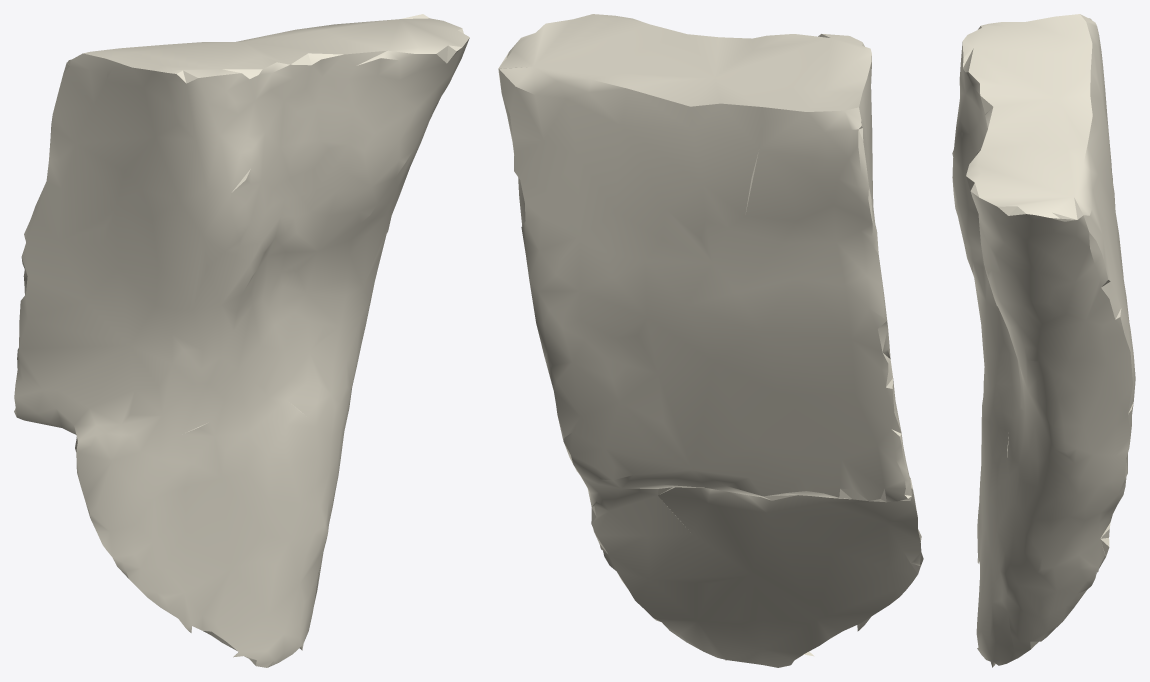
The model's file is fma23631_mm1902.glb.
3 views of the same model, side by side, from view 1: azimuth 30°, elevation 25°; view 2: azimuth 150°, elevation 25°; view 3: azimuth 270°, elevation 25° (orthographic). The views are drawn at different scales.
Visible parts, largest first — view 1: FMA23631_MM1902; view 2: FMA23631_MM1902; view 3: FMA23631_MM1902.
Boxes of the visible parts, bbox=[...] form: FMA23631_MM1902: bbox=[14, 14, 469, 667]; FMA23631_MM1902: bbox=[498, 14, 923, 667]; FMA23631_MM1902: bbox=[952, 14, 1135, 667].
Size of the model in its own units: 0.0167 by 0.024 by 0.00683.
